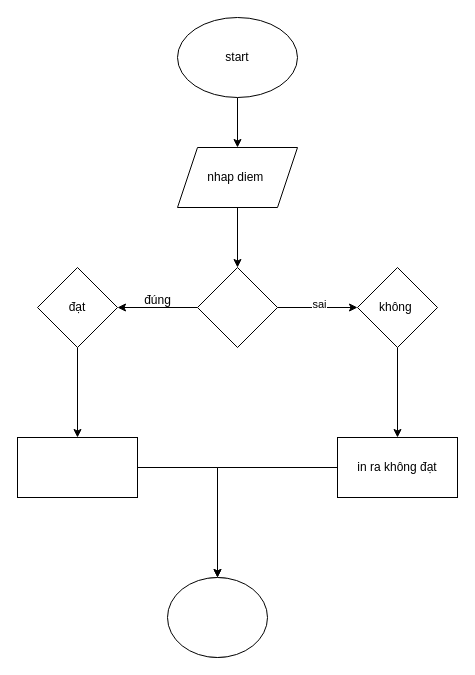
Some shapes in this 475 by 675 pixel diagram are drawn without their labels. Here are the shapes that lost their labels. From the top down, the centre of each, then its label:
(237,307): diem >=5
(77,467): in ra đạt
